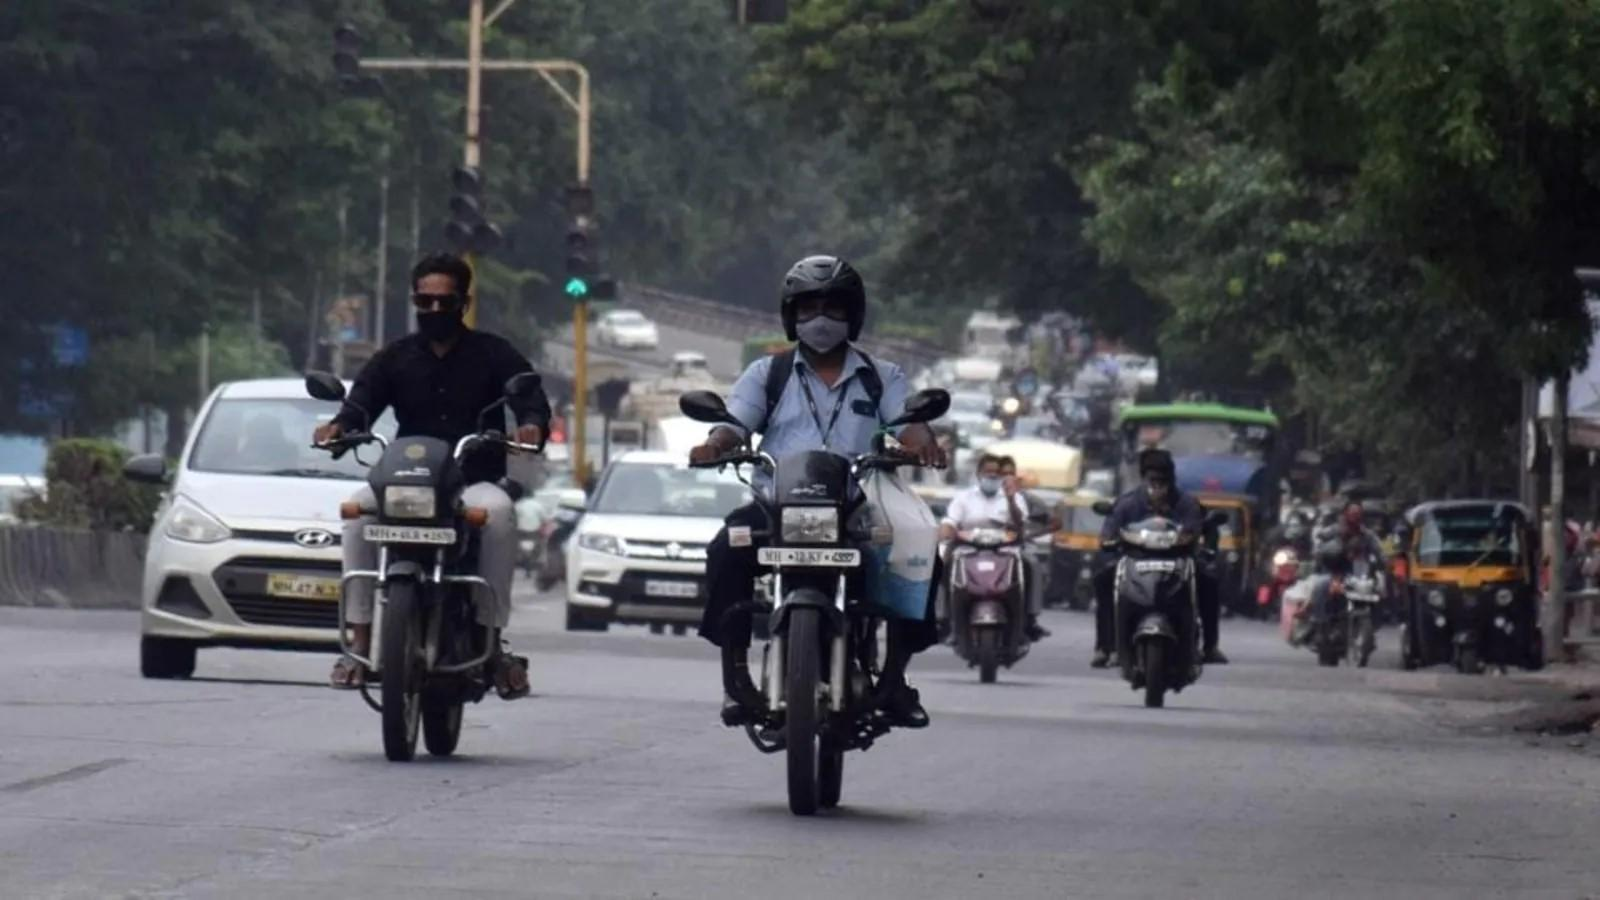MotorCycle: (678, 385, 965, 827), (301, 365, 556, 778)
